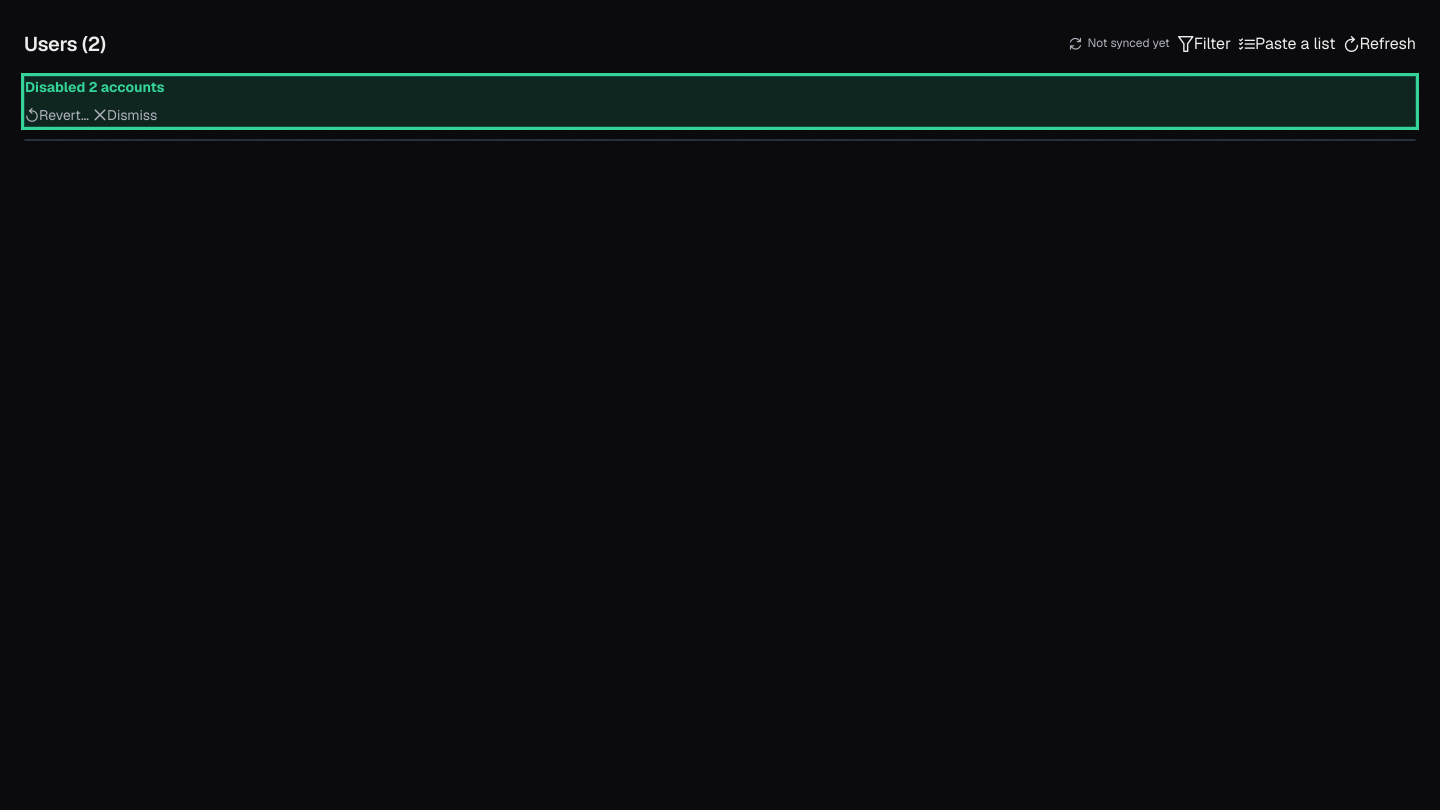
the user list, coming back to a bulk job › offers to revert a stopped job, and follows the revert in its place
The image size is (1440, 810).
Click the button "Revert…": (57, 115) [25,105,89,126]
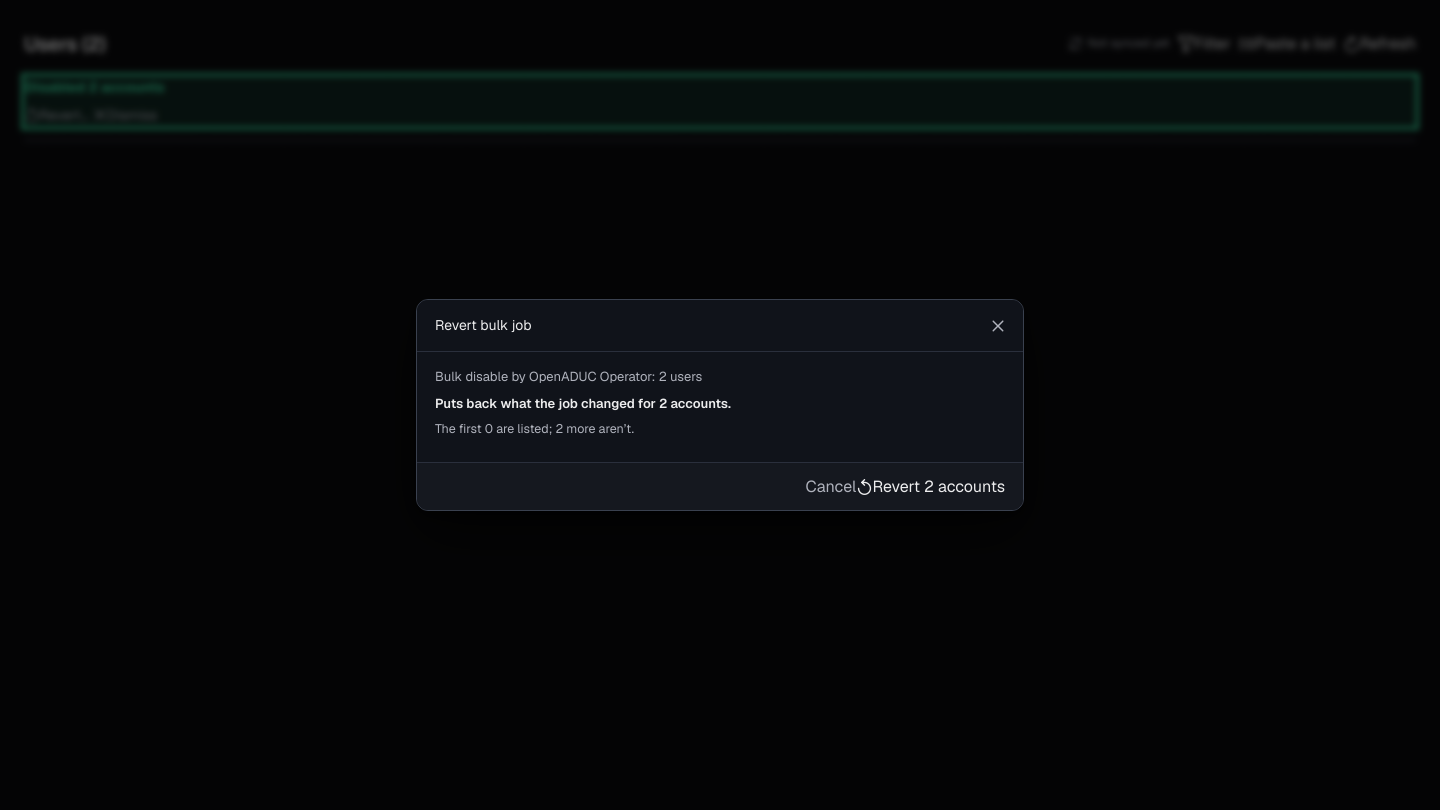
Expected: the dialog shows "Bulk disable by OpenADUC Operator: 2 users", [435,368,702,385]
Click the button "Revert 2 accounts": (931, 486) [856,475,1005,498]
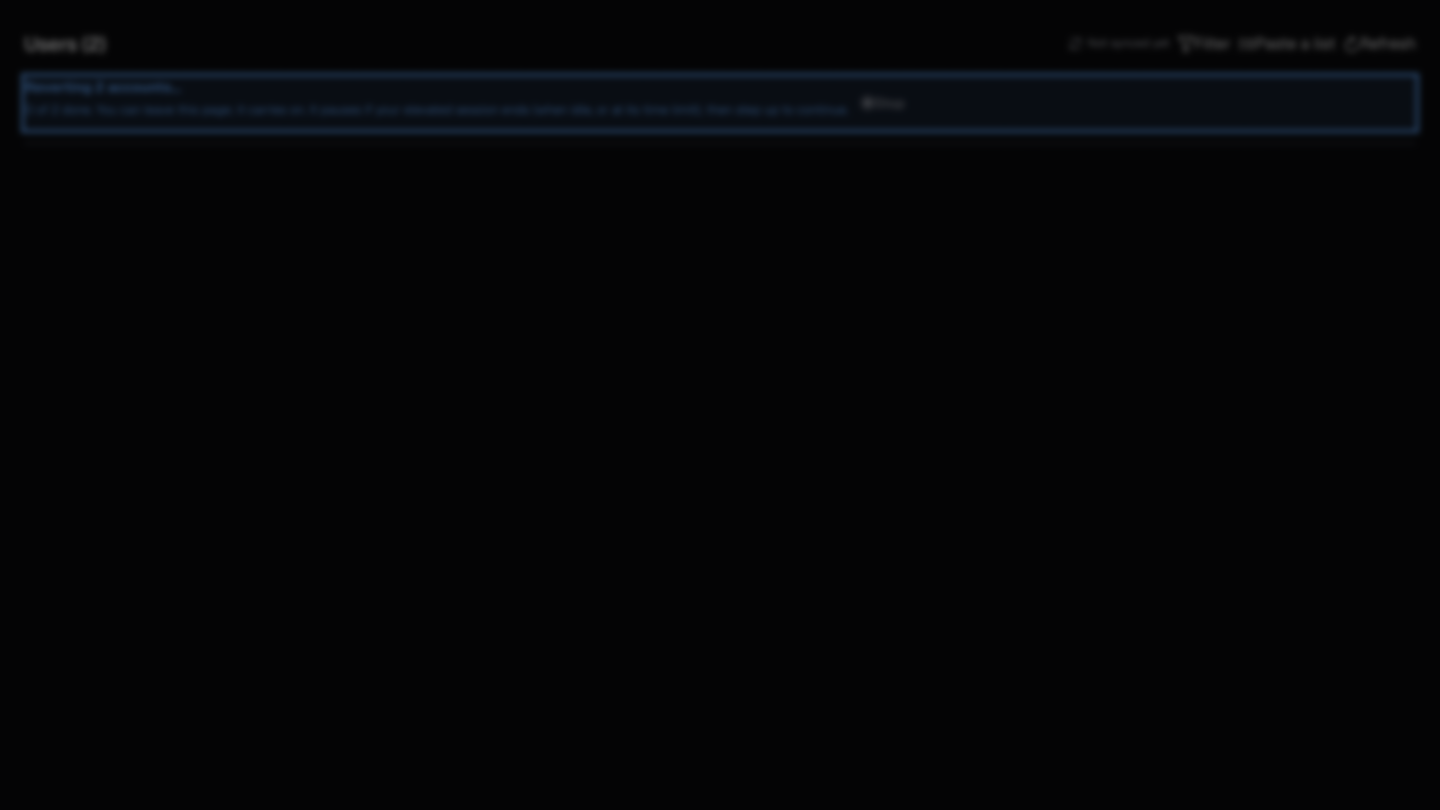
Expected: the message with class "bulk-job" shows "Reverting 2 accounts…", [25,78,181,96]
